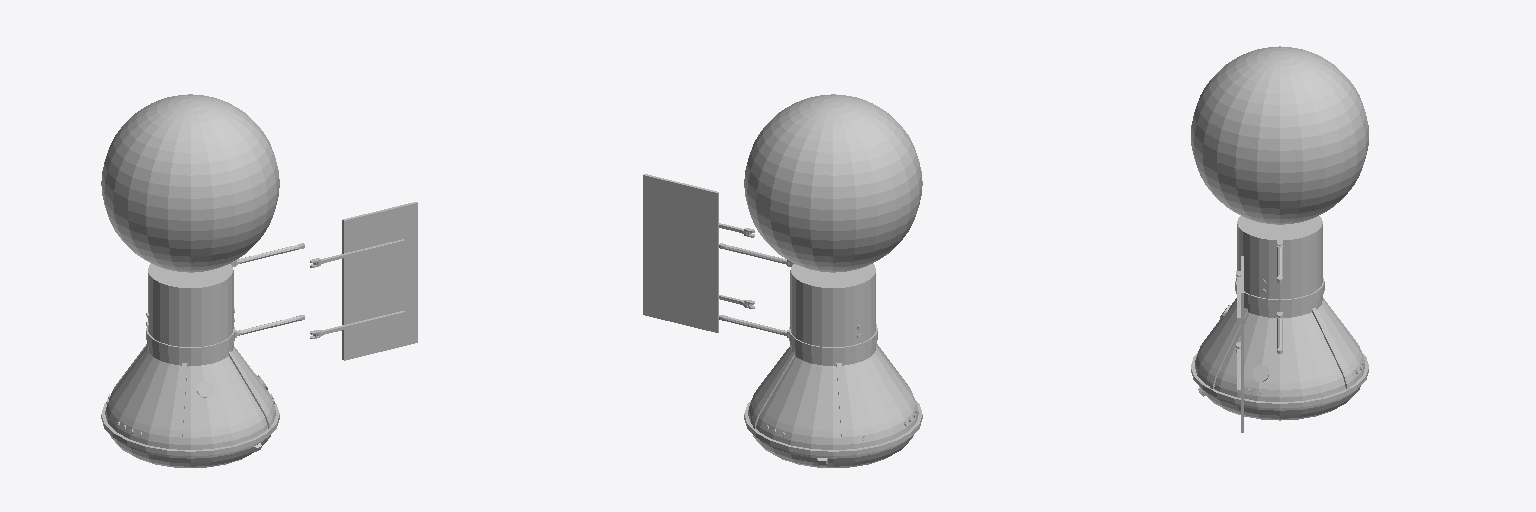
Rendered from test shapes solar panel.obj.
3 renders of one model, left to right at view 1: azimuth 30°, elevation 25°; view 2: azimuth 150°, elevation 25°; view 3: azimuth 270°, elevation 25°, orthographic.
Visible parts, largest first — view 1: sphere3_sep68, sphere3_sep47, sphere3_sep35, sphere3_cut59, sphere3_sep64, sphere3_sep42, sphere3_sep63; view 2: sphere3_sep68, sphere3_sep47, sphere3_sep35, sphere3_cut59, sphere3_sep64, sphere3_sep42, sphere3_sep63; view 3: sphere3_sep68, sphere3_sep47, sphere3_cut59, sphere3_sep64, sphere3_sep42, sphere3_sep63, sphere3_sep35.
Boxes of the visible parts, box(x1,y1,x2,y2) form: sphere3_sep68: box(101, 94, 279, 272); sphere3_sep47: box(105, 345, 275, 467); sphere3_sep35: box(342, 202, 417, 360); sphere3_cut59: box(148, 286, 233, 365); sphere3_sep64: box(148, 264, 233, 303); sphere3_sep42: box(101, 403, 279, 455); sphere3_sep63: box(146, 327, 234, 356); sphere3_sep68: box(744, 94, 922, 272); sphere3_sep47: box(748, 345, 918, 467); sphere3_sep35: box(643, 174, 718, 332); sphere3_cut59: box(790, 286, 875, 365); sphere3_sep64: box(790, 264, 875, 303); sphere3_sep42: box(744, 400, 922, 455); sphere3_sep63: box(789, 324, 877, 356); sphere3_sep68: box(1191, 46, 1368, 224); sphere3_sep47: box(1195, 298, 1364, 420); sphere3_cut59: box(1237, 239, 1322, 317); sphere3_sep64: box(1237, 216, 1322, 255); sphere3_sep42: box(1191, 353, 1368, 408); sphere3_sep63: box(1235, 278, 1324, 309); sphere3_sep35: box(1241, 256, 1243, 432).
Size of the model in its own units: 2.4 by 2.72 by 1.3.